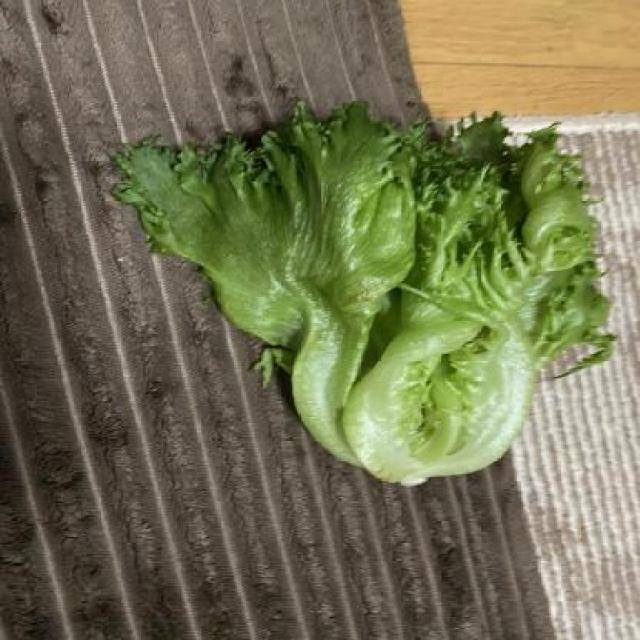Lettuce: (111, 90, 621, 489)
